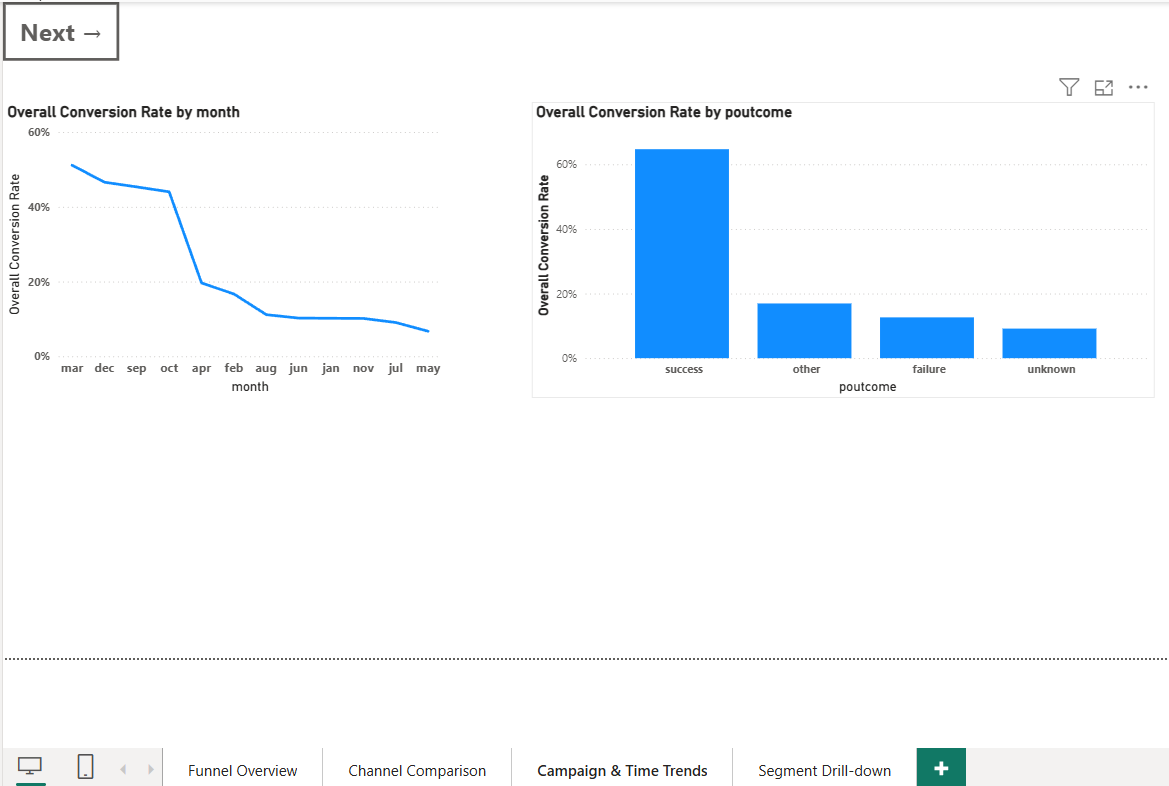

What the dashboard file says about the page in this screenshot:
{"tool":"powerbi","page":{"name":"Campaign & Time Trends","canvas":[1280,720],"ordinal":2},"visuals":[{"type":"lineChart","fields":{"Category":["Bank Marketing Campaign Dataset - bank.month"],"Y":["Bank Marketing Campaign Dataset - bank.Overall Conversion Rate"]},"box":[0,109.8,487.1,325.2],"z":0},{"type":"clusteredColumnChart","fields":{"Category":["Bank Marketing Campaign Dataset - bank.poutcome"],"Y":["Bank Marketing Campaign Dataset - bank.Overall Conversion Rate"]},"box":[580.4,109.8,683.4,325.2],"z":1000},{"type":"actionButton","box":[0,0,127.6,64.5],"z":2000}]}

Visuals, with their boxes on the page's 1280x720 design canvas (x1, y1, x2, y2). These are canvas units, not pixel positions in the 1169x786 screenshot, which may show the page scaled, cropped or inside an application window:
lineChart - Bank Marketing Campaign Dataset - bank.month x Bank Marketing Campaign Dataset - bank.Overall Conversion Rate: Rect(0, 110, 487, 435)
clusteredColumnChart - Bank Marketing Campaign Dataset - bank.poutcome x Bank Marketing Campaign Dataset - bank.Overall Conversion Rate: Rect(580, 110, 1264, 435)
actionButton: Rect(0, 0, 128, 64)
